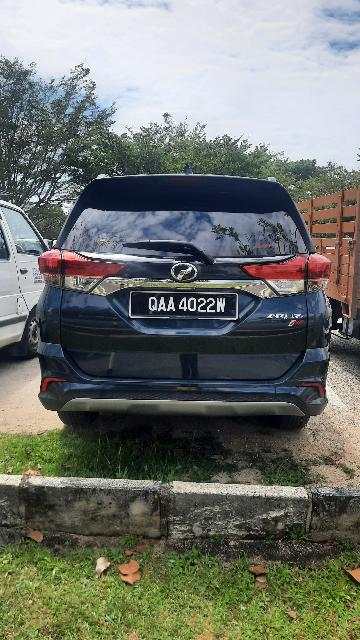License_Plate: (129, 288, 241, 324)
car: (32, 167, 339, 434)
